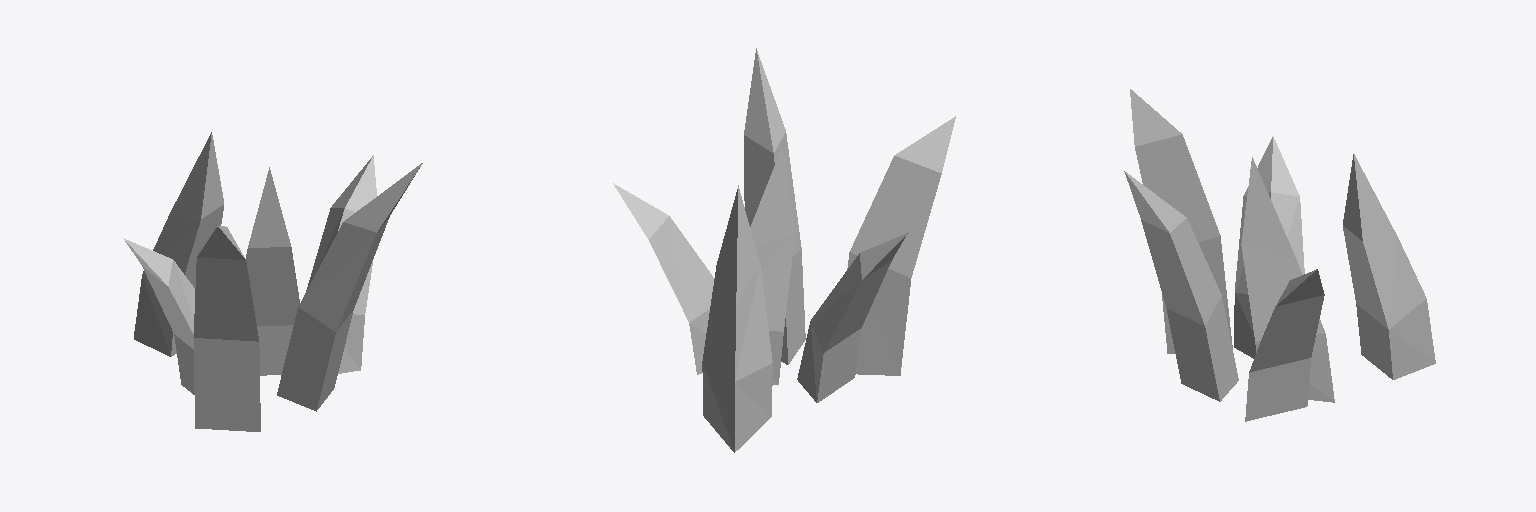
Rendered from grass_1.obj.
3 renders of one model, left to right at view 1: azimuth 30°, elevation 25°; view 2: azimuth 150°, elevation 25°; view 3: azimuth 270°, elevation 25°, orthographic.
Parts seen in each view (by area): view 1: GrassBunch4; view 2: GrassBunch4; view 3: GrassBunch4.
Boxes of the visible parts, x1=… form: GrassBunch4: x1=123, y1=132, x2=422, y2=431; GrassBunch4: x1=613, y1=48, x2=955, y2=452; GrassBunch4: x1=1124, y1=89, x2=1435, y2=421.
Size of the model in its own units: 1.13 by 1.02 by 1.12.